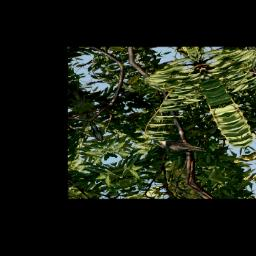Cuckoo: (155, 129, 209, 164)
